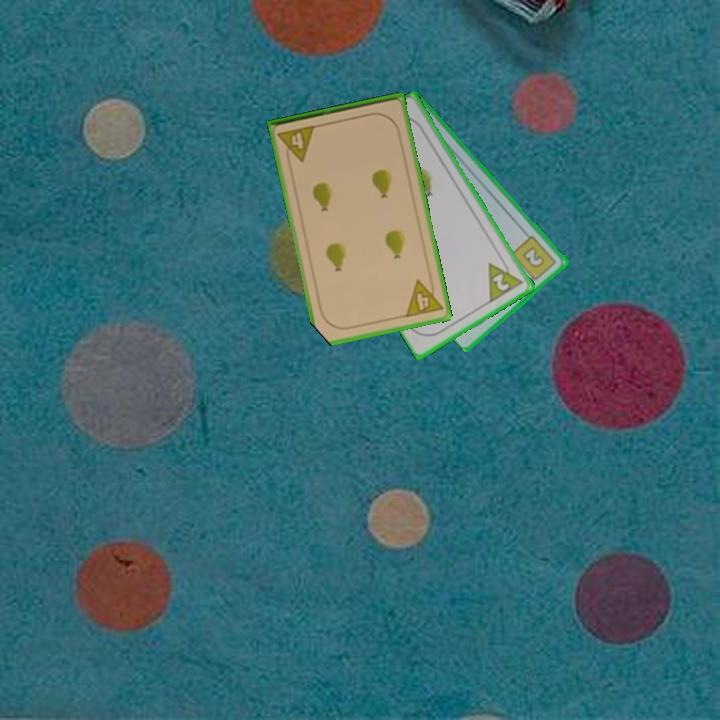2b: (508, 232, 559, 286)
2p: (484, 253, 526, 305)
4p: (402, 274, 446, 320), (274, 122, 318, 167)
